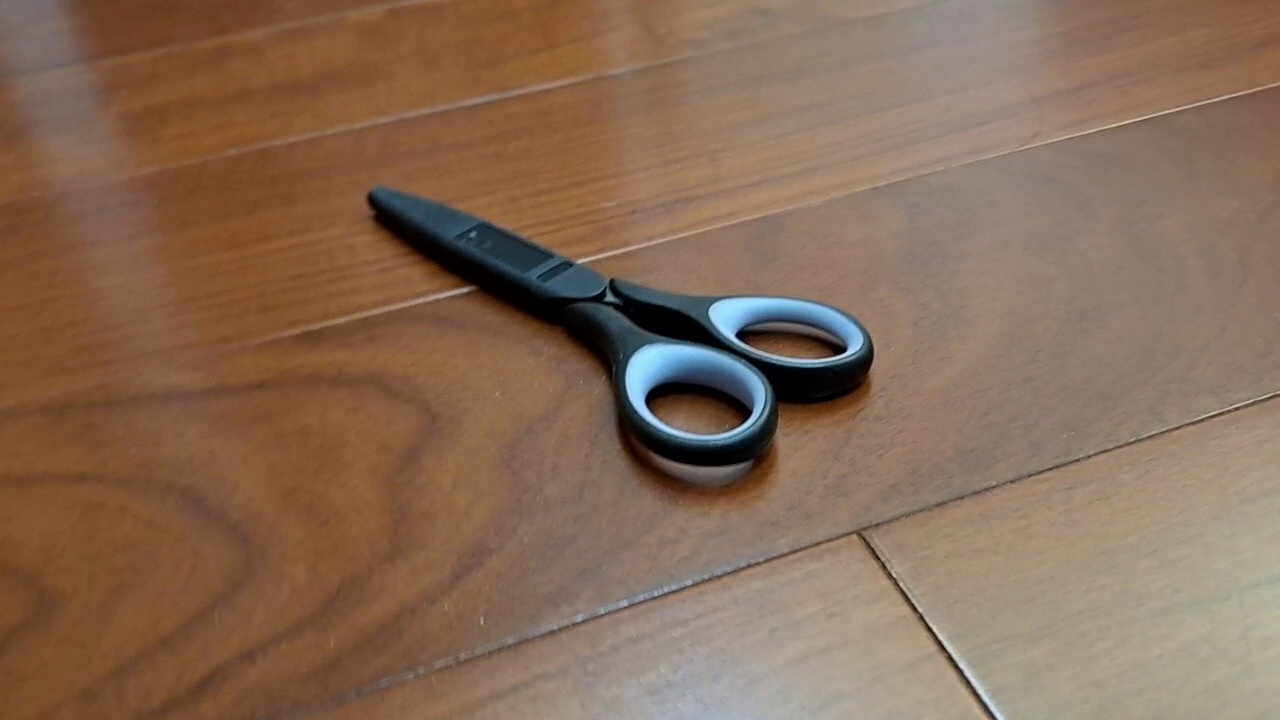scissors: (366, 184, 875, 468)
